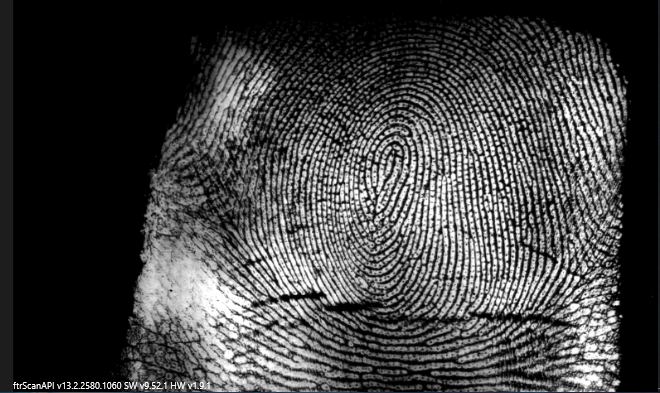nucelo: (379, 145, 402, 184)
verticilo: (221, 217, 255, 247), (568, 256, 599, 282)
